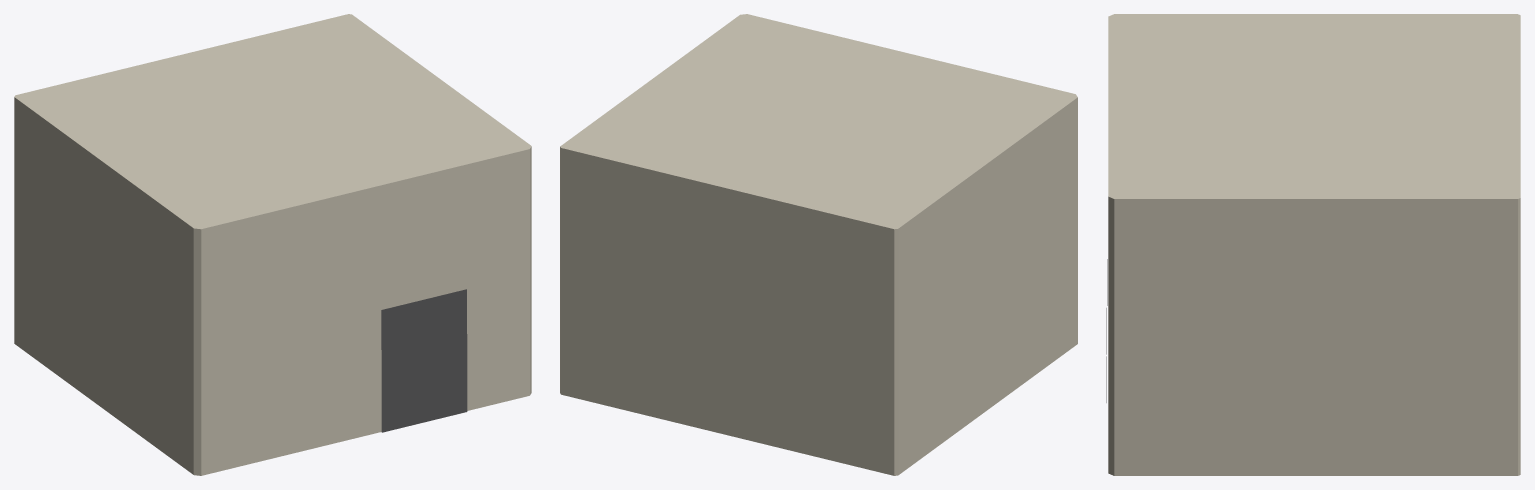
The model's file is loin-etape-1.glb.
The picture shows the model from 3 angles, left to right: view 1: azimuth 30°, elevation 25°; view 2: azimuth 150°, elevation 25°; view 3: azimuth 270°, elevation 25°; orthographic projection. The views are drawn at different scales.
Visible parts, largest first — view 1: loin; view 2: loin; view 3: loin.
Part boxes in pixels (box(x1,y1,x2,y2)): loin: box(14, 14, 531, 475); loin: box(560, 14, 1077, 475); loin: box(1106, 14, 1520, 475).
Size of the model in its own units: 0.7912 by 0.5521 by 0.7489.
